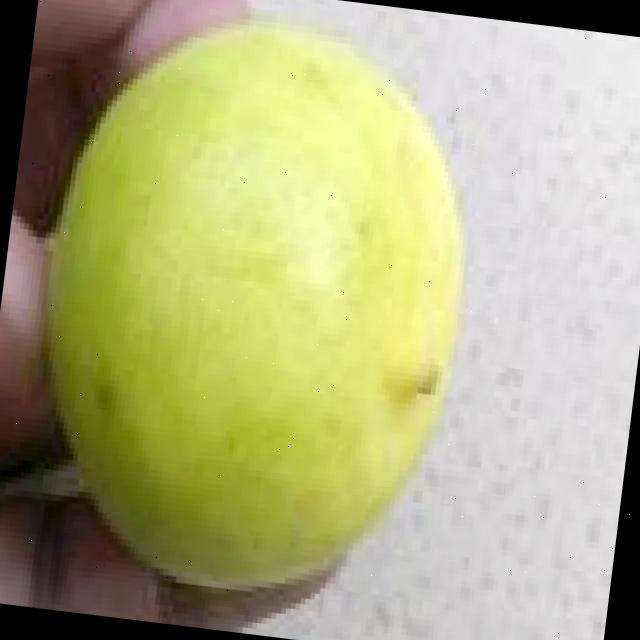Good_Lime-10-21-days: (40, 13, 463, 596)
